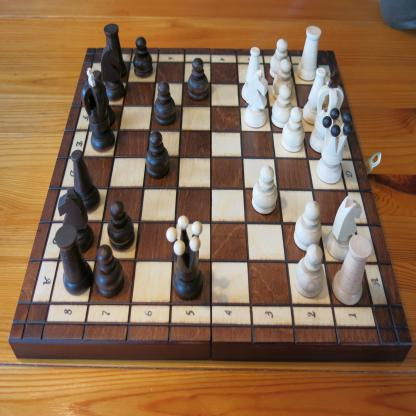black-bishop: (70, 149, 101, 214), (92, 69, 115, 127)
black-king: (80, 66, 116, 152)
black-knight: (57, 186, 94, 254), (100, 43, 126, 102)
black-pawn: (94, 244, 125, 298), (107, 200, 134, 253), (146, 130, 170, 180), (154, 80, 177, 126), (187, 57, 209, 101), (133, 36, 153, 79)
black-queen: (166, 214, 204, 300)
black-rook: (54, 224, 93, 296), (104, 22, 128, 79)
white-bishop: (301, 66, 327, 126), (241, 46, 261, 104)
white-king: (309, 69, 345, 154)
white-knight: (325, 194, 363, 261), (244, 69, 270, 129)
white-pawn: (294, 244, 324, 299), (293, 200, 323, 253), (252, 164, 278, 216), (281, 106, 306, 154), (271, 83, 294, 129), (271, 58, 294, 100), (269, 38, 291, 79)
white-queen: (316, 107, 352, 184)
white-rook: (331, 234, 373, 306), (296, 24, 322, 81)
